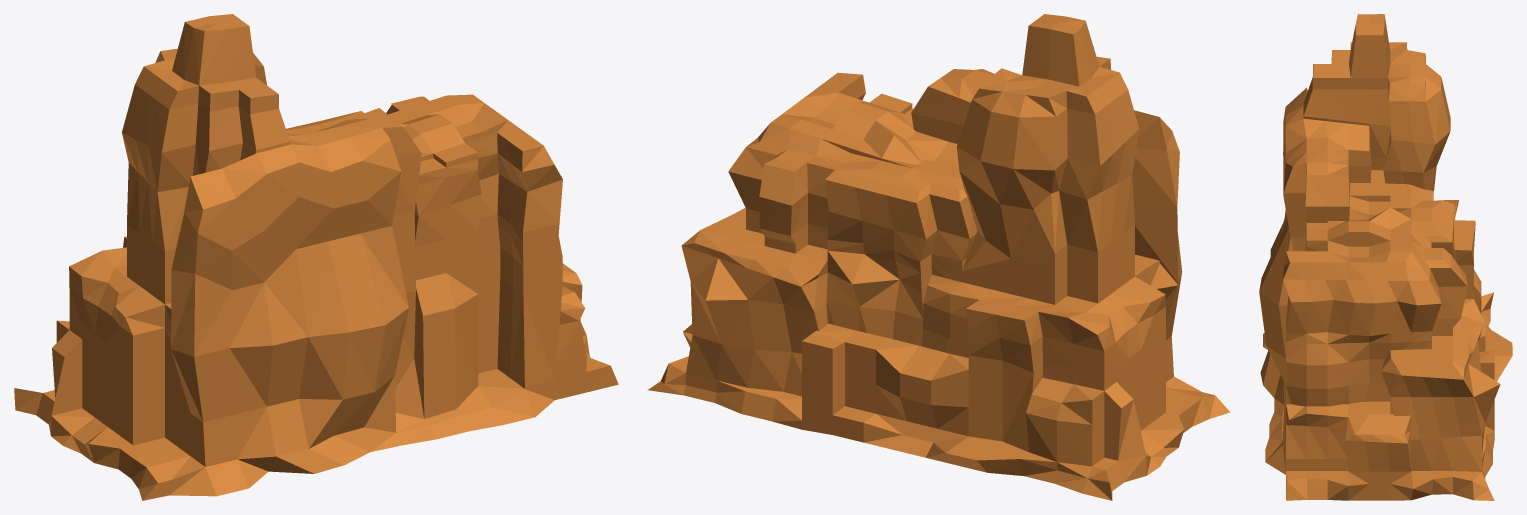
File: clifBig_1.fbx
The picture shows the model from 3 angles, left to right: view 1: azimuth 30°, elevation 25°; view 2: azimuth 150°, elevation 25°; view 3: azimuth 270°, elevation 25°; orthographic projection. The views are drawn at different scales.
Parts seen in each view (by area): view 1: pPlane1; view 2: pPlane1; view 3: pPlane1.
Part boxes in pixels (x1=…): pPlane1: x1=14, y1=14, x2=618, y2=500; pPlane1: x1=647, y1=14, x2=1230, y2=500; pPlane1: x1=1259, y1=14, x2=1512, y2=500.
Size of the model in its own units: 26.69 by 21.43 by 14.49.
